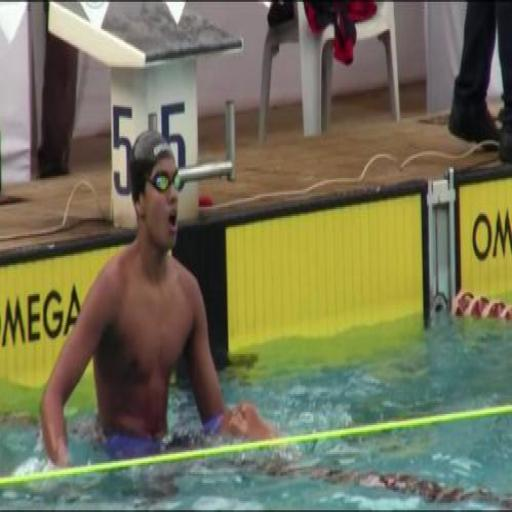swimming: (37, 127, 283, 476)
